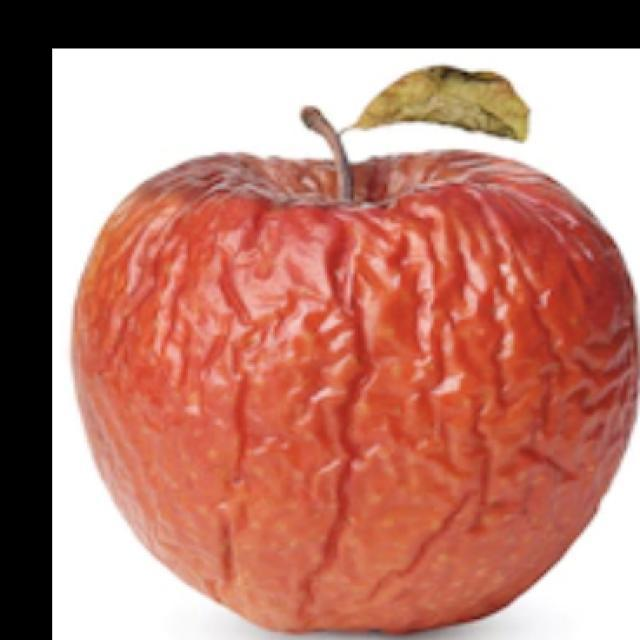Rotten: (80, 168, 640, 640)
